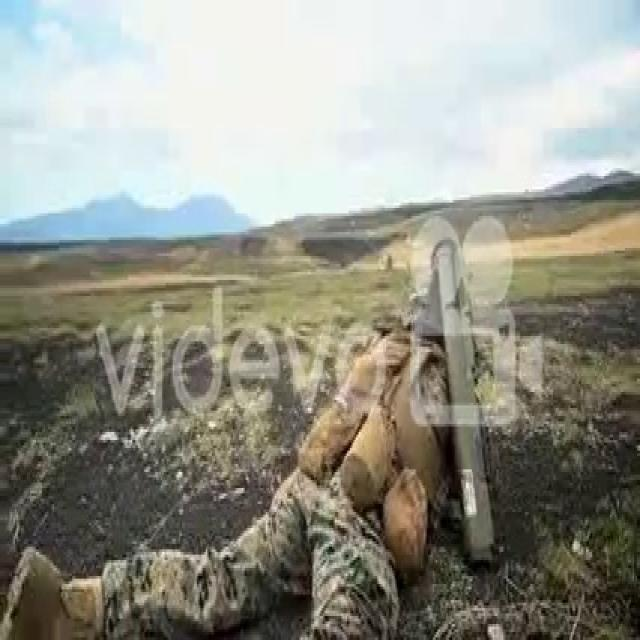bazooka: (428, 238, 508, 584)
